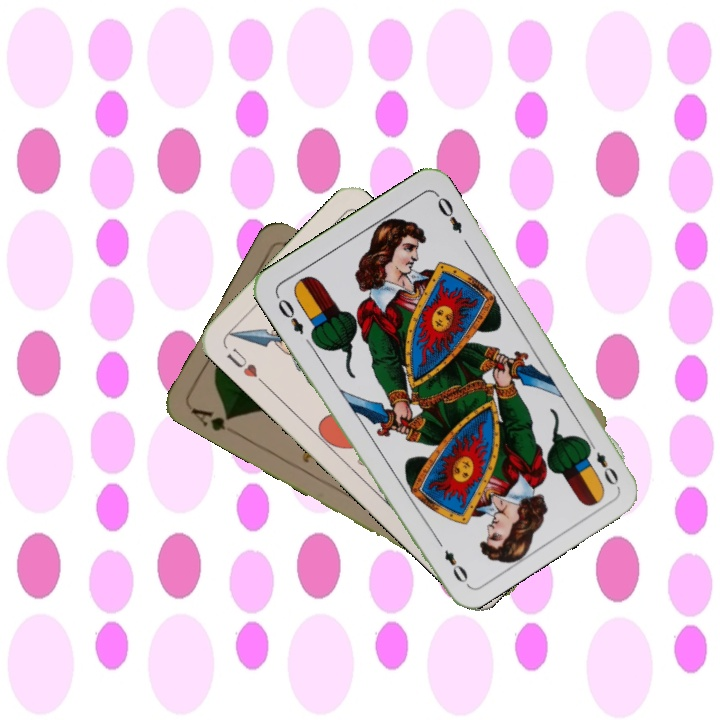EO: (583, 436, 622, 488), (273, 294, 307, 337)
GA: (187, 403, 235, 434)
HU: (222, 343, 268, 388)
